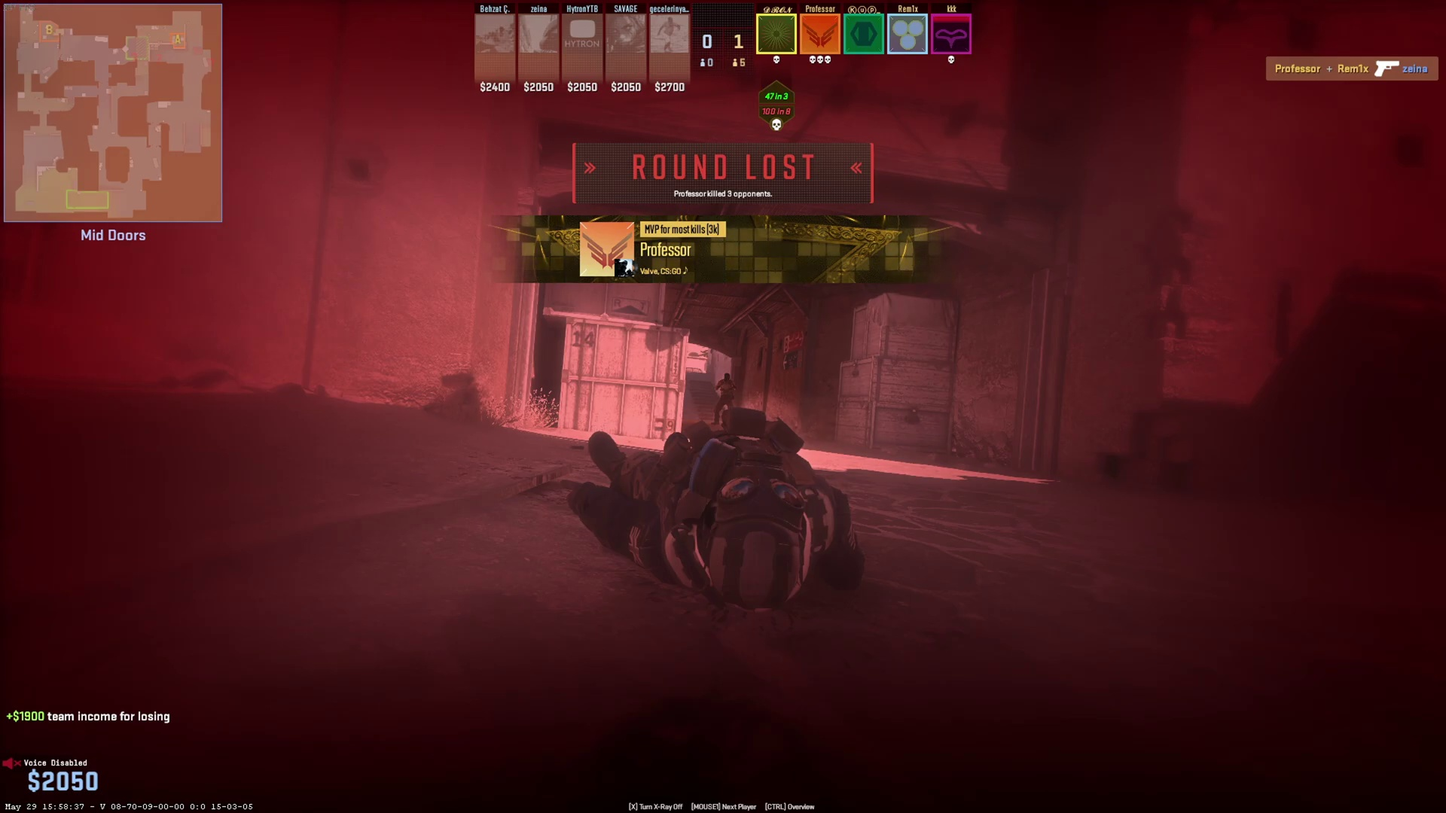Terrorist: (711, 373, 735, 426)
